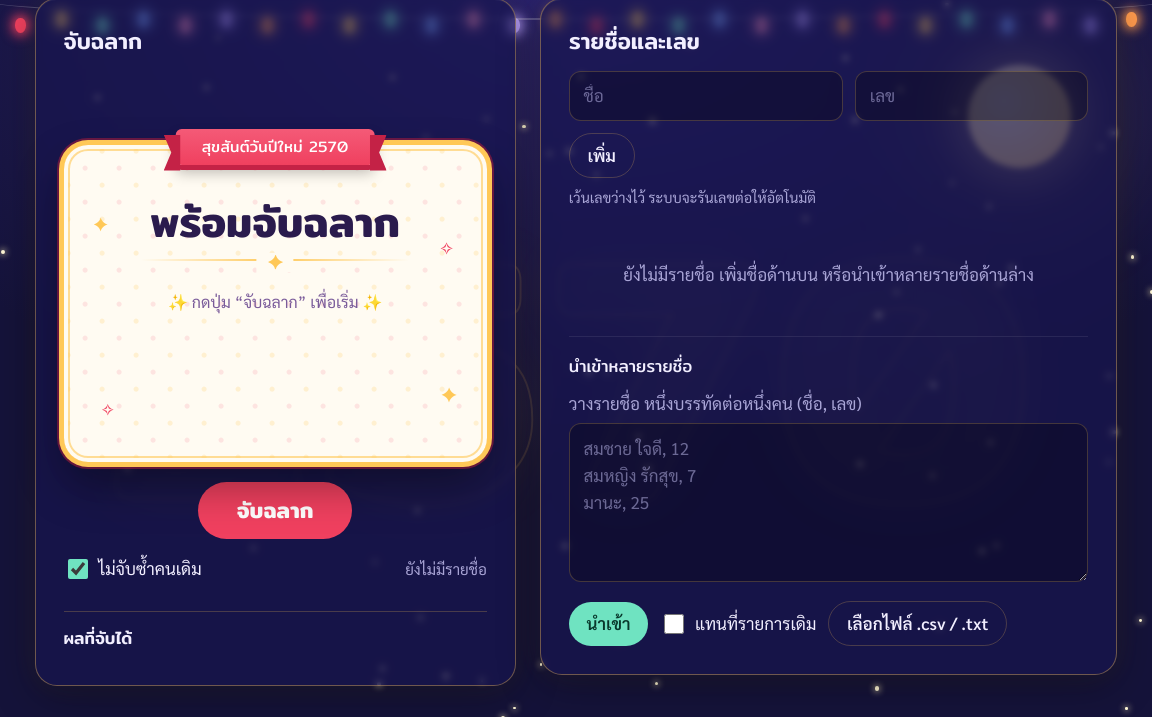
Test: จอแสดงผล › เปิดจอแสดงผล จับด้วยคีย์ Space และออกด้วย Esc
The width and height of the screenshot is (1152, 717).
Later steps or results of the test are not shown.
(page scrolled)
Type "สมชาย, 12" into the text box labelled "วางรายชื่อ หนึ่งบรรทัดต่อหนึ่งคน (ชื่อ, เลข)" at (829, 503), box [569, 423, 1088, 582]
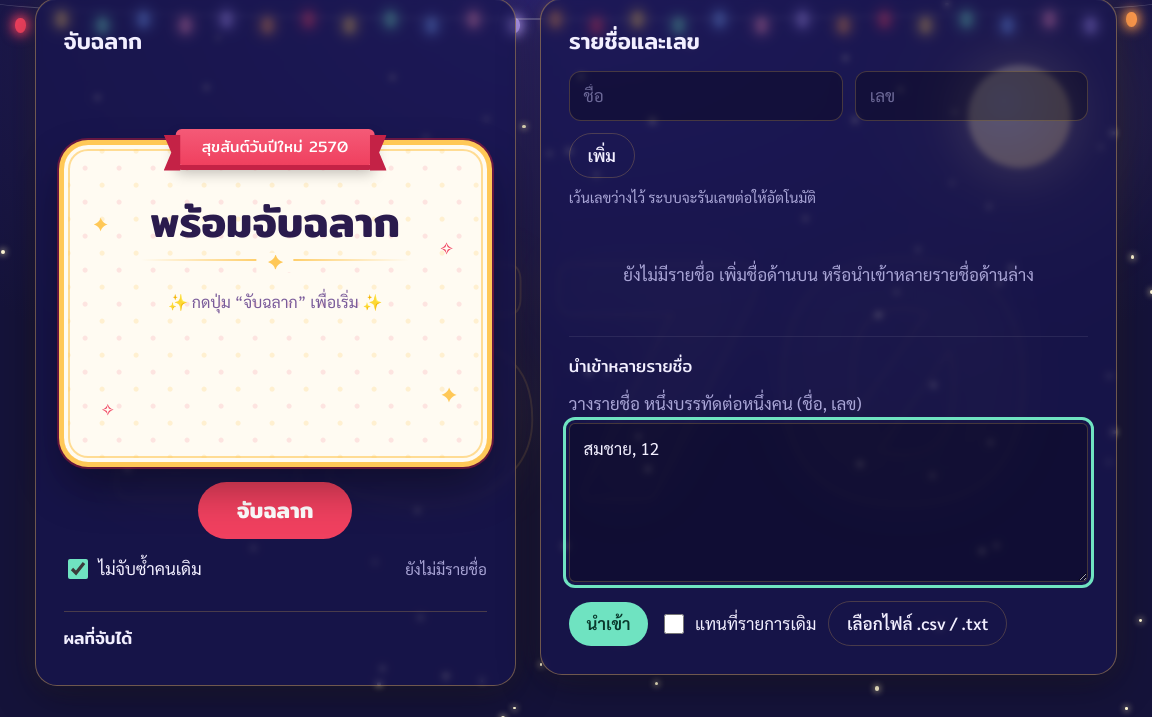
Click the button "นำเข้า" at (608, 624), box [569, 602, 648, 646]
(page scrolled)
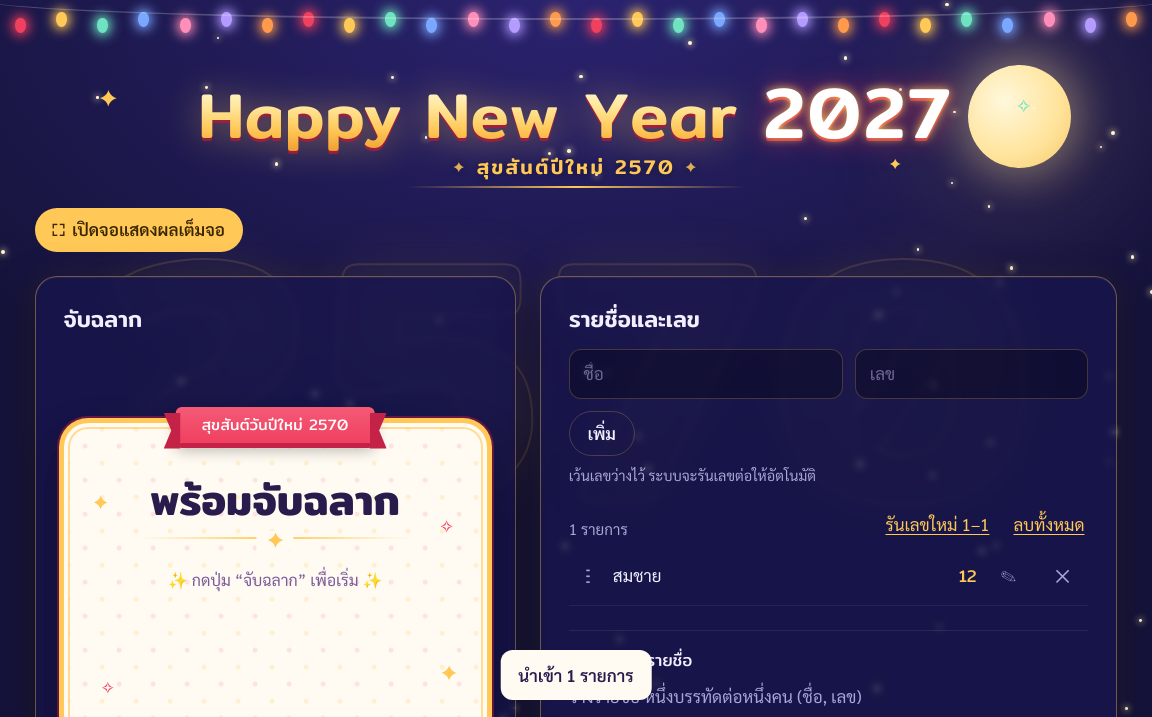
Click the button "⛶ เปิดจอแสดงผลเต็มจอ" at (138, 230), box [34, 208, 242, 252]
(page scrolled)
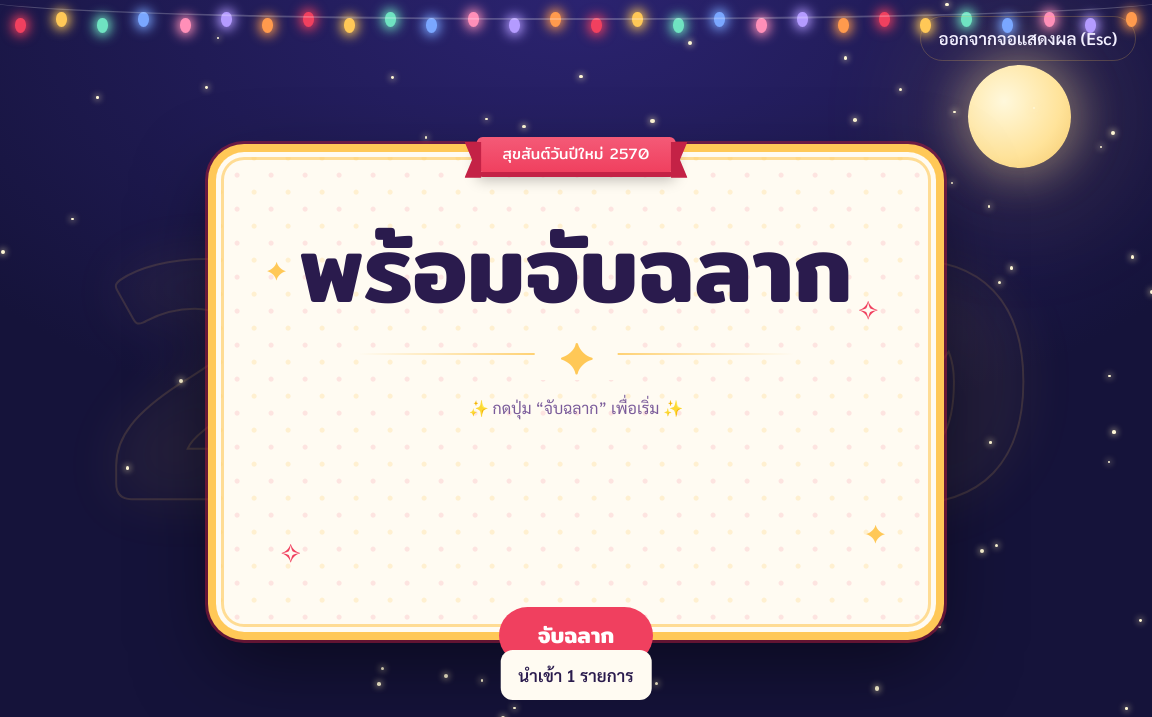
Check: the element "จอแสดงผล" is shown
Type keys " "
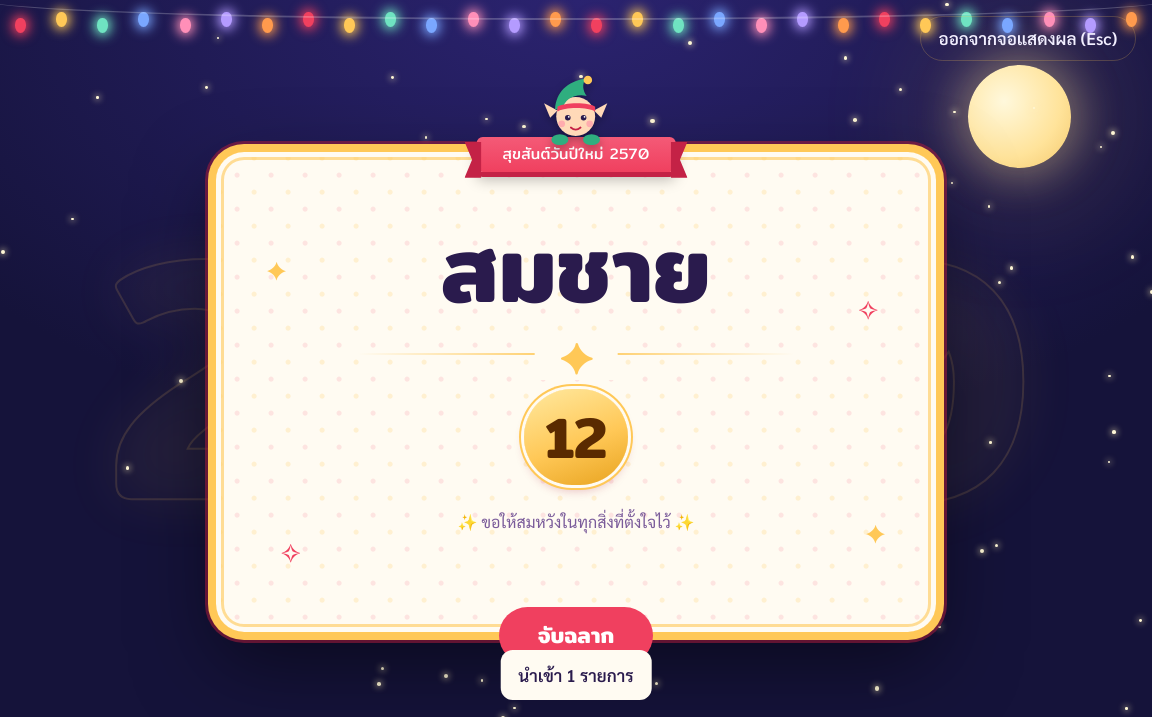
Check: the text "สมชาย" is shown, box [441, 196, 711, 342]
